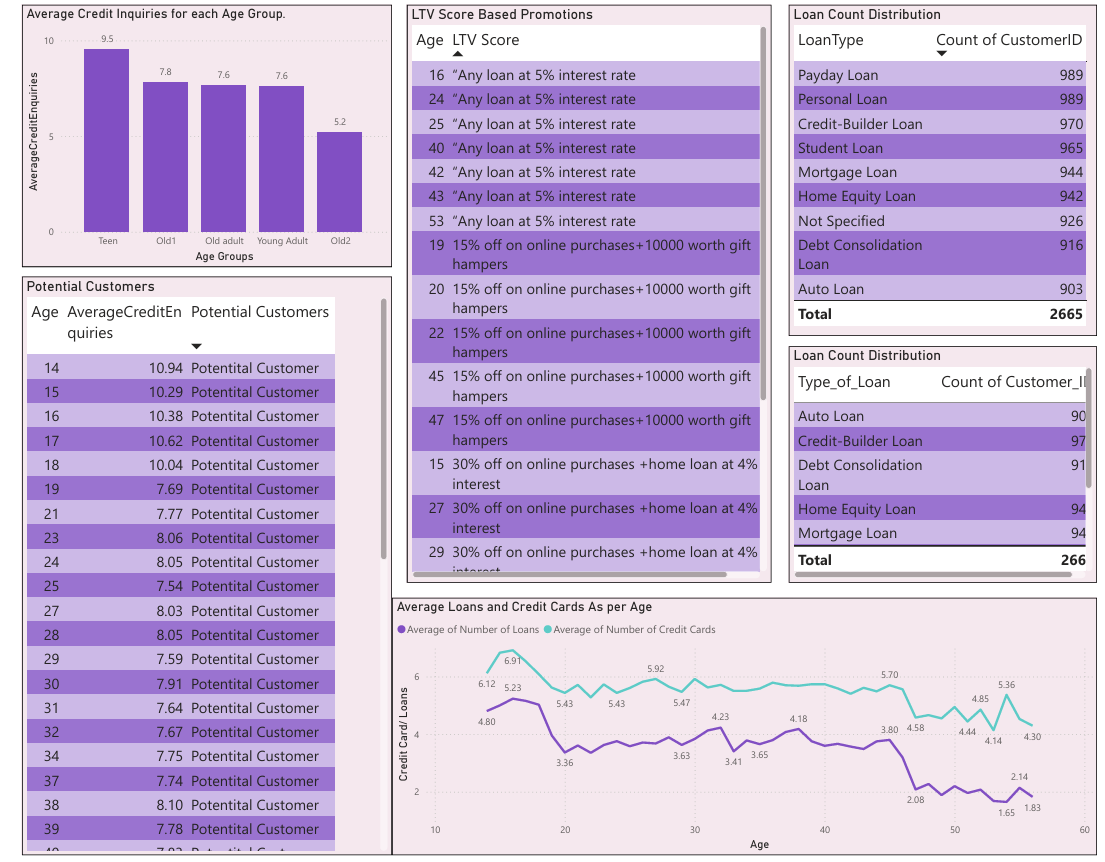

The dashboard page shown, as its layout file describes it:
{"tool":"powerbi","page":{"name":"Page 2","canvas":[1400,1100],"ordinal":1},"visuals":[{"type":"clusteredColumnChart","title":"Average Credit Inquiries for each  Age Group.","fields":{"Category":["combined_df.Age Groups"],"Y":["Table.AverageCreditEnquiries"]},"box":[27.3,14.5,472.3,334.1],"z":0},{"type":"tableEx","title":"Potential Customers","fields":{"Values":["combined_df.Age","Table.AverageCreditEnquiries","Table.Potential Customers"]},"box":[27.3,361.4,472.3,738.9],"z":1000},{"type":"lineChart","title":"Average Loans and Credit Cards As per Age","fields":{"Category":["combined_df.Age"],"Y":["Avg(combined_df.Number of Loans)","Avg(combined_df.Number of Credit Cards)"]},"box":[499.6,771,901.1,329.3],"z":2000},{"type":"tableEx","title":"LTV Score Based Promotions","fields":{"Values":["combined_df.Age","Table.LTV Score"]},"box":[518.8,14.5,465.8,737.3],"z":3000},{"type":"tableEx","title":"Loan Count Distribution","fields":{"Values":["LoanTypeTable.LoanType","LoanTypeTable.CustomerID"]},"box":[1007.2,14.5,393.5,422.5],"z":4000},{"type":"tableEx","title":"Loan Count Distribution","fields":{"Values":["combined_df (2).Type_of_Loan","combined_df (2).Customer_ID"]},"box":[1007.2,449.8,393.5,302],"z":5000}]}

Visuals, with their boxes in screenshot pixels (x1, y1, x2, y2), scaled from the page's 1400x1100 canvas onto the 1105x862 screenshot:
"Average Credit Inquiries for each  Age Group." clusteredColumnChart: (x1=22, y1=11, x2=394, y2=273)
"Potential Customers" tableEx: (x1=22, y1=283, x2=394, y2=861)
"Average Loans and Credit Cards As per Age" lineChart: (x1=394, y1=604, x2=1104, y2=861)
"LTV Score Based Promotions" tableEx: (x1=409, y1=11, x2=777, y2=589)
"Loan Count Distribution" tableEx: (x1=795, y1=11, x2=1104, y2=342)
"Loan Count Distribution" tableEx: (x1=795, y1=352, x2=1104, y2=589)
